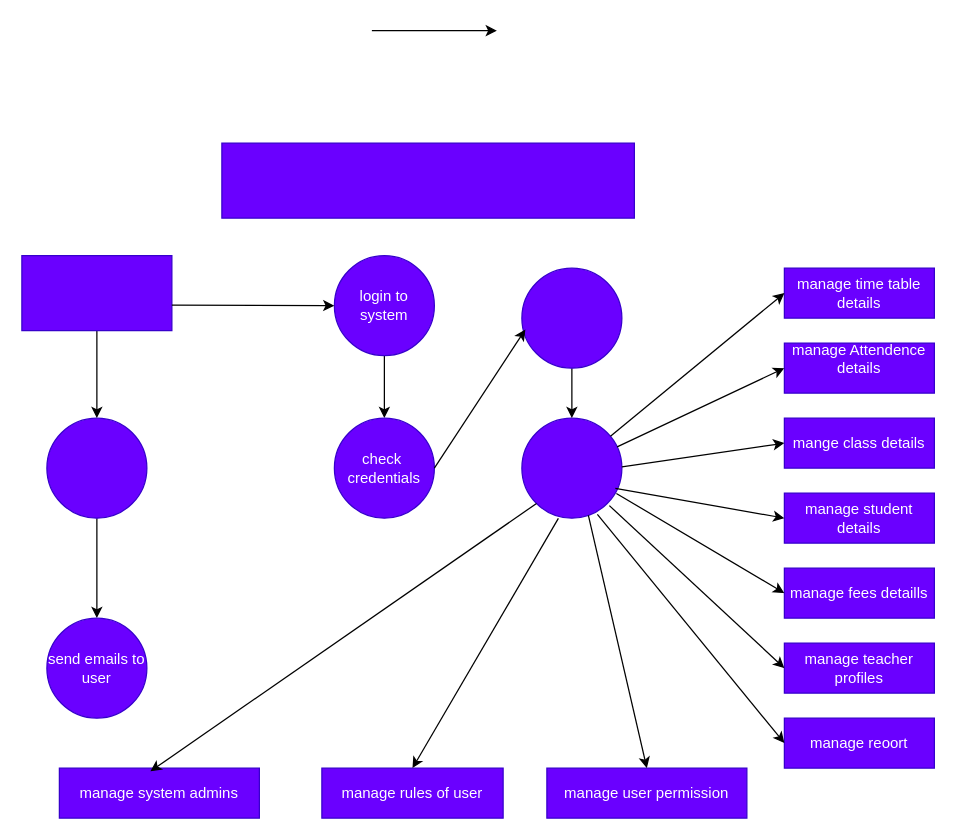
The diagram is 956 pixels wide and 840 high, and some of its shapes have lost their labels. The shapes that lost their labels are listed below. From the top down, each one's centre as x and y in pixels, then its label:
At (x=427, y=180): "student information system".
At (x=96, y=292): "admin".
At (x=571, y=317): "check roles of access".
At (x=96, y=467): "forgot password".
At (x=571, y=467): "manage modules".
